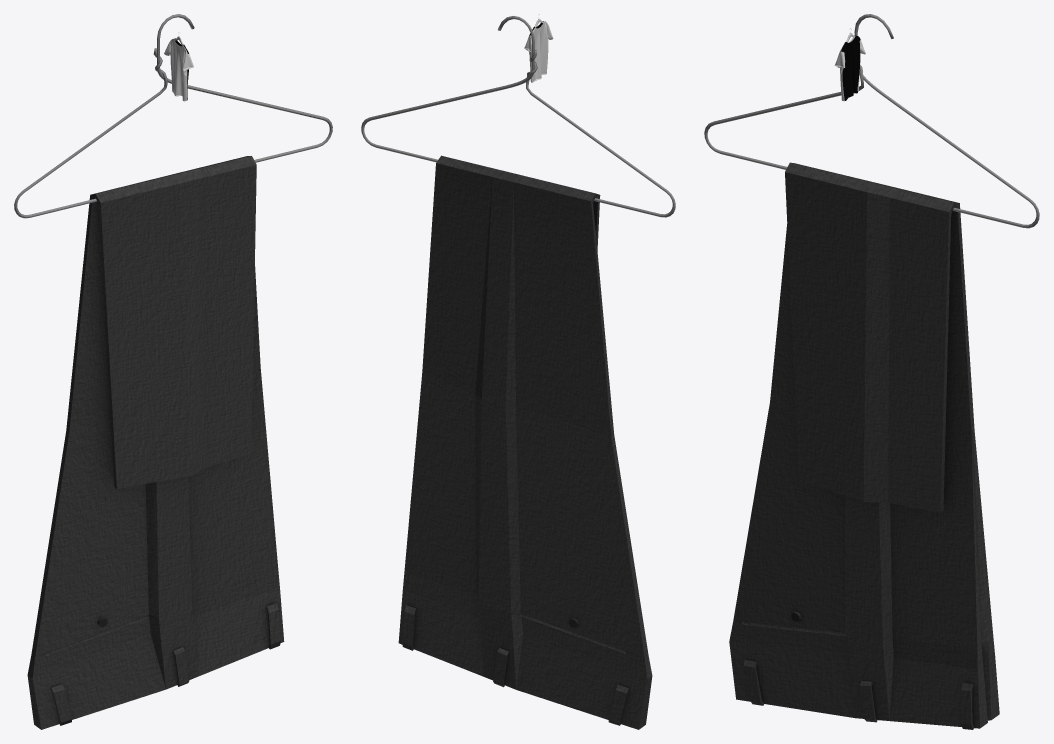
Rendered from TShirts.fbx.
3 views of the same model, side by side, from view 1: azimuth 30°, elevation 25°; view 2: azimuth 150°, elevation 25°; view 3: azimuth 330°, elevation 25° (orthographic). The views are drawn at different scales.
Visible parts, largest first — view 1: Plane.008_Plane.003, BezierCurve.010_Metal_Hook.001, Plane.009, Obj3d66-516286-2-747; view 2: Plane.008_Plane.003, BezierCurve.010_Metal_Hook.001, Plane.009, Obj3d66-516286-2-747; view 3: Plane.008_Plane.003, BezierCurve.010_Metal_Hook.001, Plane.009, Obj3d66-516286-2-747.
Boxes of the visible parts, x1,y1,x2,y2 form: Plane.008_Plane.003: (27, 156, 284, 729); BezierCurve.010_Metal_Hook.001: (14, 14, 332, 218); Plane.009: (50, 603, 280, 725); Obj3d66-516286-2-747: (164, 32, 193, 101); Plane.008_Plane.003: (398, 155, 652, 729); BezierCurve.010_Metal_Hook.001: (361, 16, 675, 217); Plane.009: (402, 605, 629, 725); Obj3d66-516286-2-747: (524, 14, 553, 82); Plane.008_Plane.003: (729, 162, 999, 728); BezierCurve.010_Metal_Hook.001: (704, 14, 1039, 228); Plane.009: (743, 660, 973, 729); Obj3d66-516286-2-747: (834, 28, 865, 101).
Bounding box in the file's own units: 476 × 976 × 106.
